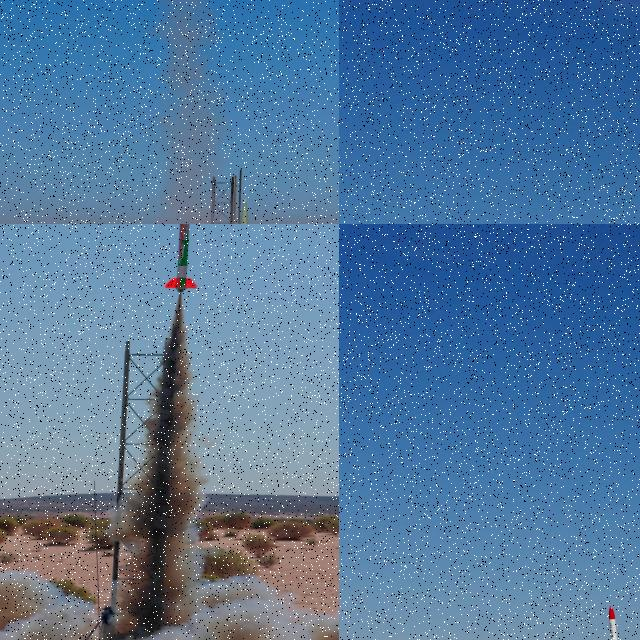Rocket: (164, 224, 198, 292), (607, 605, 625, 640)
